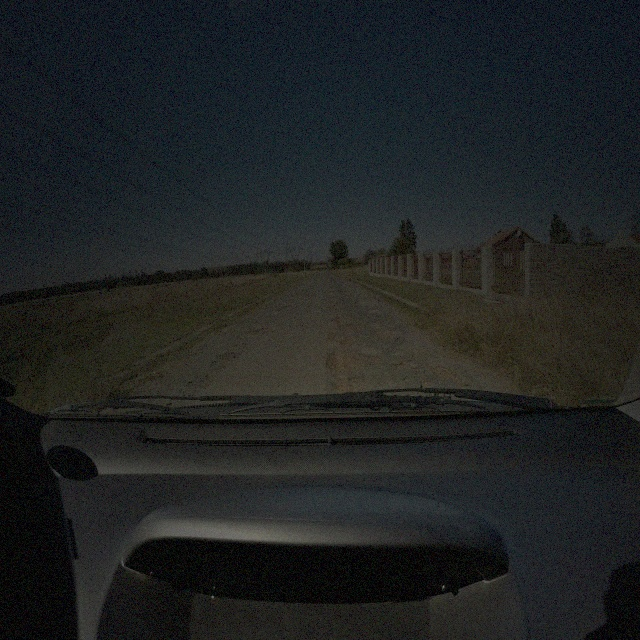pothole: (326, 346, 384, 372), (370, 325, 395, 345), (436, 362, 460, 382), (329, 330, 352, 346), (394, 356, 416, 372), (331, 380, 355, 394), (247, 325, 272, 333), (419, 376, 434, 389), (332, 316, 348, 327), (345, 322, 365, 330), (217, 353, 240, 359), (277, 304, 286, 310), (332, 303, 339, 310)
